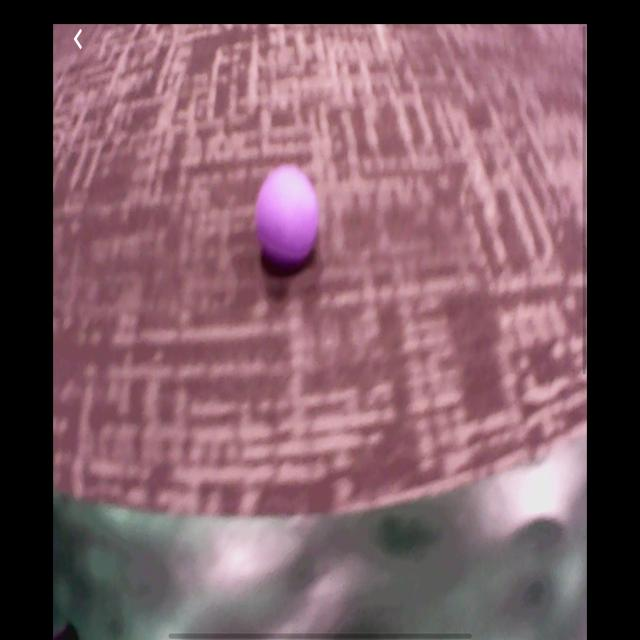ball: (258, 168, 318, 266)
